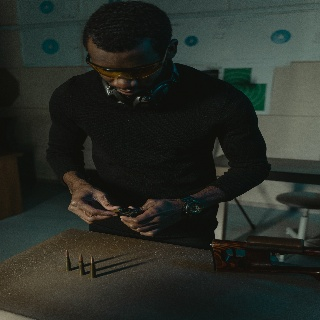rifle: (210, 233, 320, 280)
